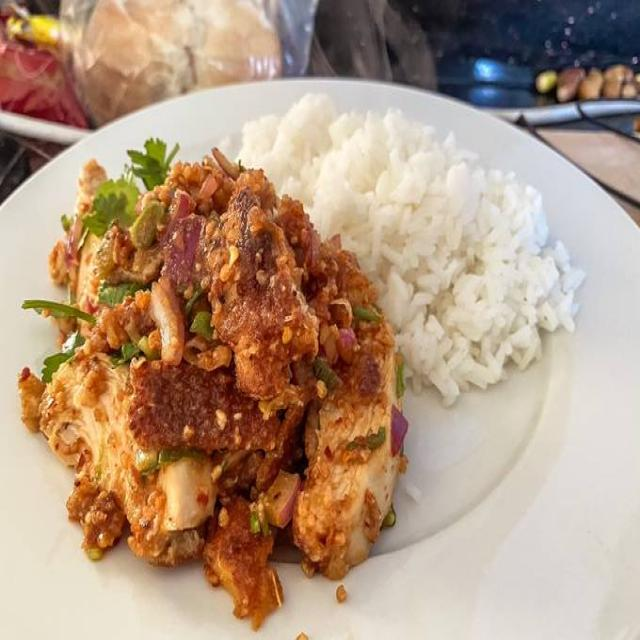carb: (269, 85, 616, 378)
meat: (71, 182, 392, 602)
spicy chicken rice salad: (19, 59, 611, 602)
vegetable: (82, 149, 166, 231)
